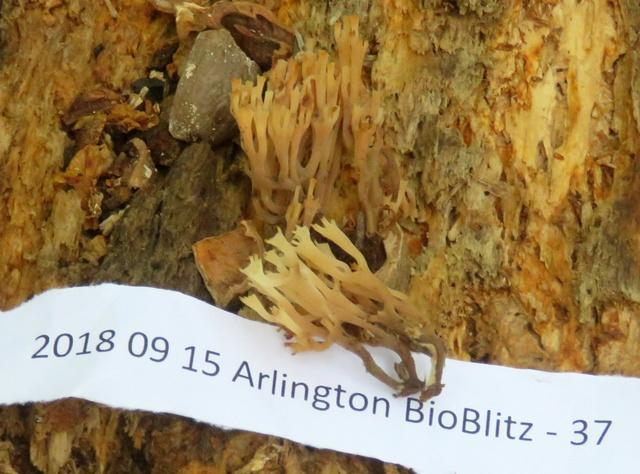edible_mushroom: (219, 13, 448, 402), (235, 214, 447, 403)
